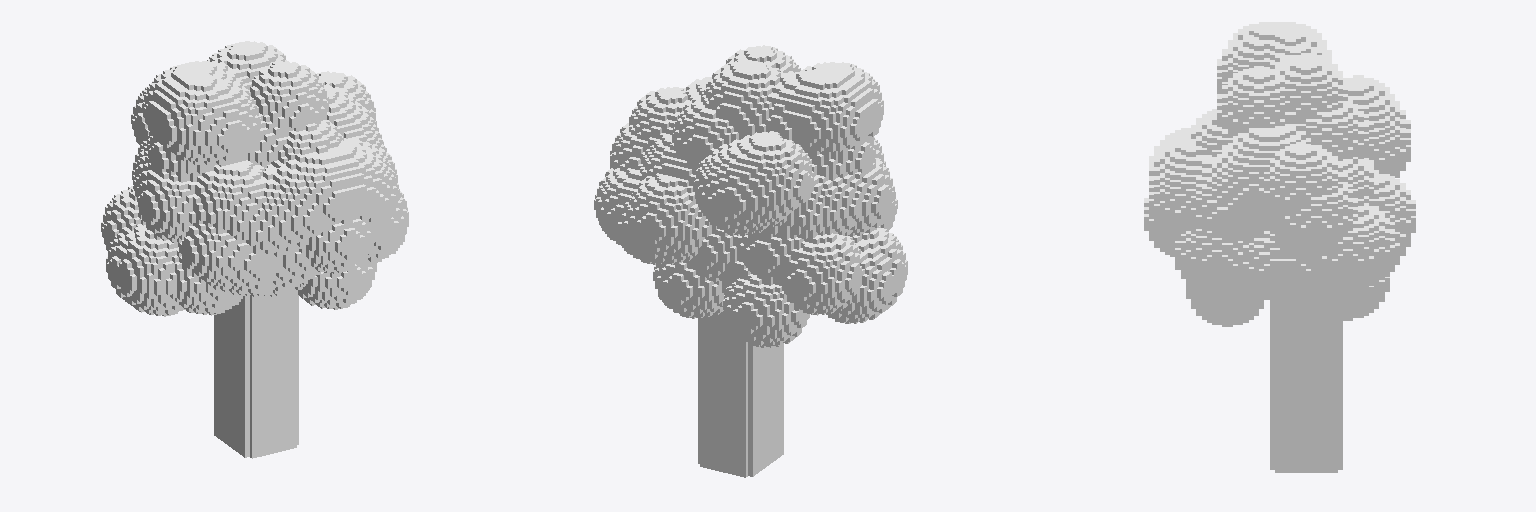
File: ld42Tree.obj
3 renders of one model, left to right at view 1: azimuth 30°, elevation 25°; view 2: azimuth 150°, elevation 25°; view 3: azimuth 270°, elevation 25°, orthographic.
Visible parts, largest first — view 1: ld42Tree; view 2: ld42Tree; view 3: ld42Tree.
Part boxes in pixels (left/top/right/bottom): ld42Tree: left=101, top=41, right=408, bottom=458; ld42Tree: left=594, top=45, right=907, bottom=477; ld42Tree: left=1144, top=22, right=1415, bottom=472.
Bounding box in the file's own units: 58 × 83 × 52.